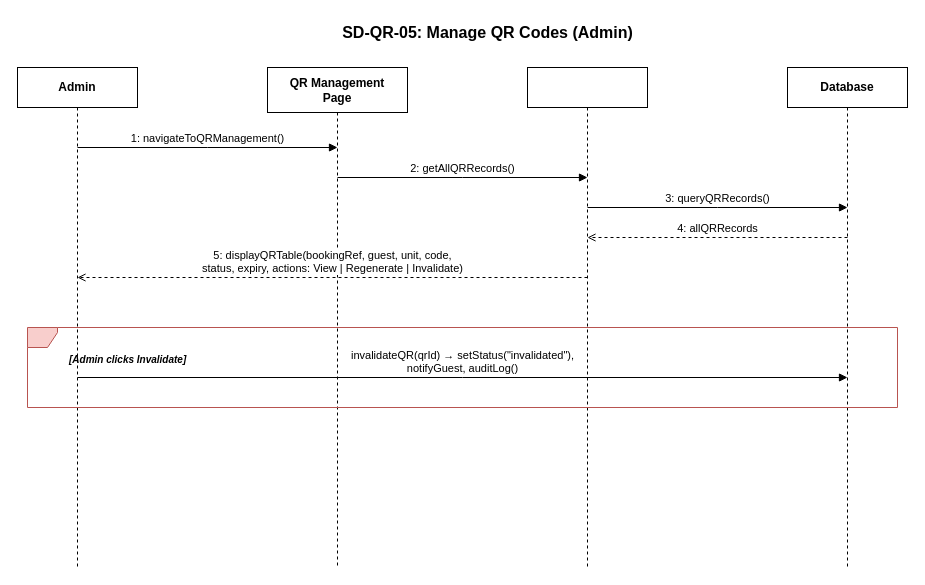
This 925x585 diagram has some shape labels left out. Each missing label, with the box of its shape:
opt: (26, 326, 898, 408)
System: (526, 66, 648, 568)
